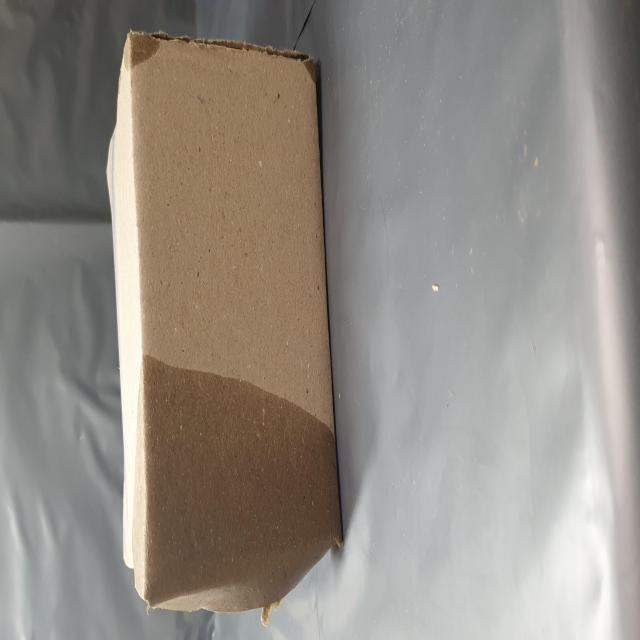wet: (16, 214, 161, 606)
